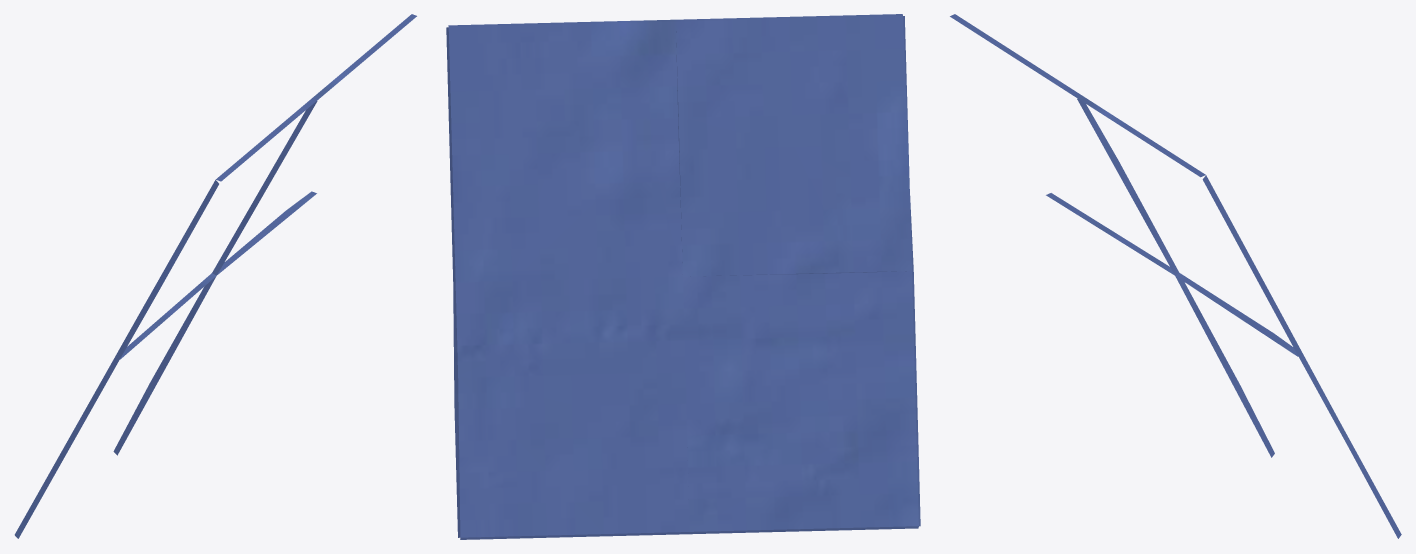
3 renders of one model, left to right at view 1: azimuth 30°, elevation 25°; view 2: azimuth 150°, elevation 25°; view 3: azimuth 270°, elevation 25°, orthographic. The views are drawn at different scales.
Bounding box in the file's own units: 78806 × 70395 × 69165.
Materials: 1 (1 with a texture image).
